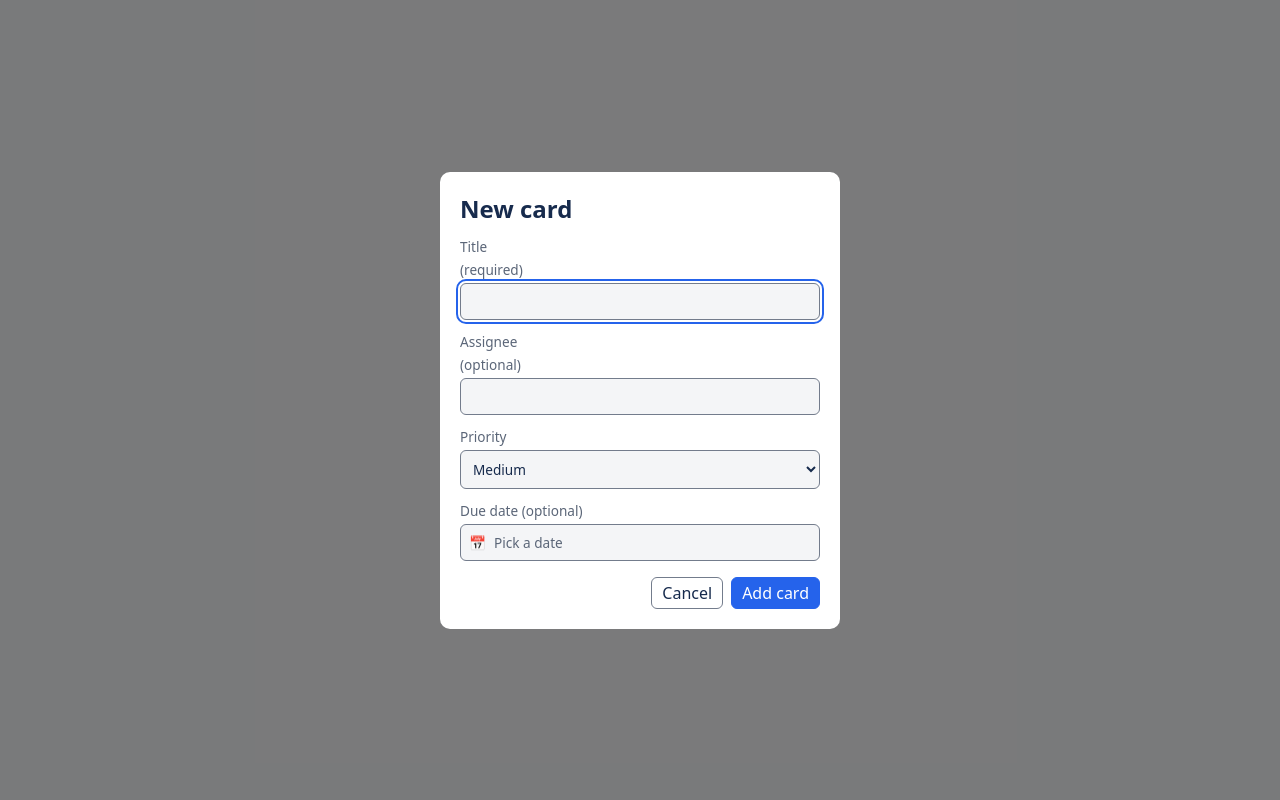
Test case: validation and labelling › shows a title error that is announced but not part of the field label
The image size is (1280, 800).
Click the button "Add card": {"x": 776, "y": 592} [731,576,820,608]
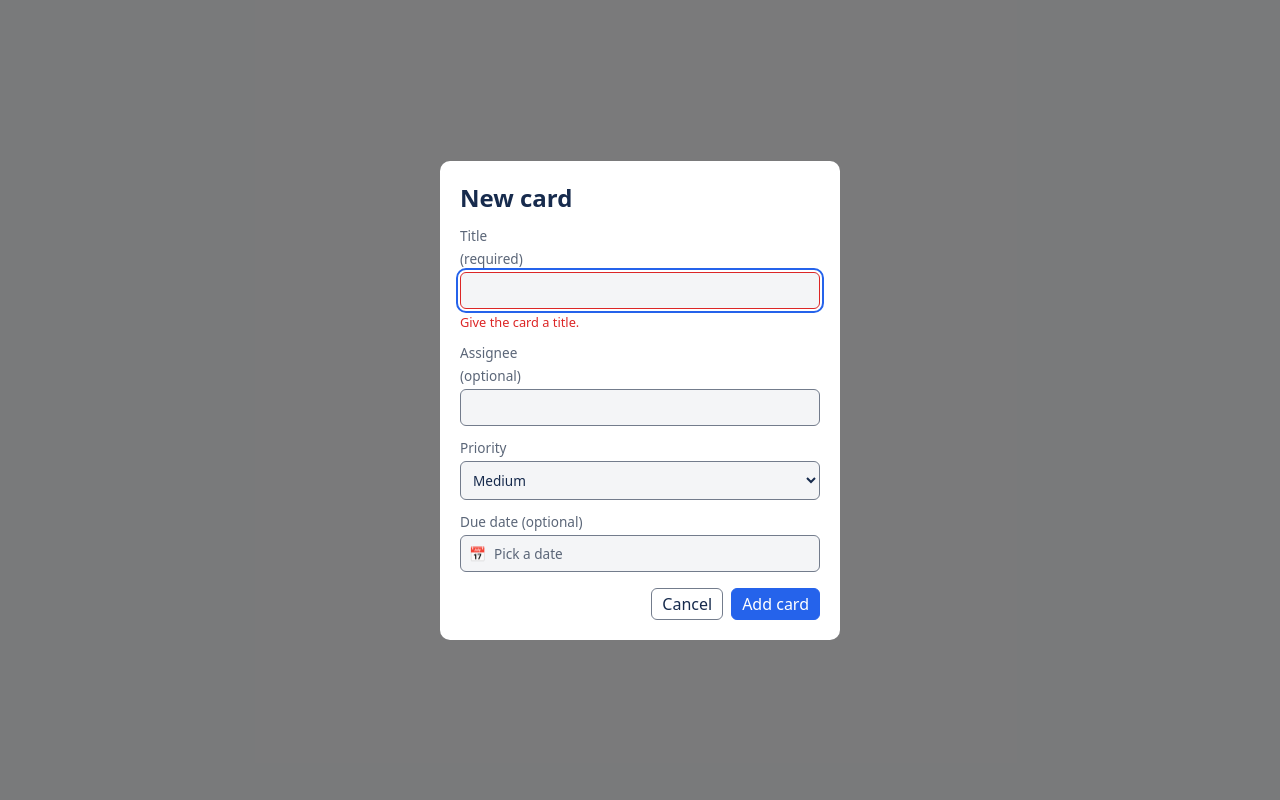
Check: the message reads "Give the card a title.", box [460,312,579,330]
